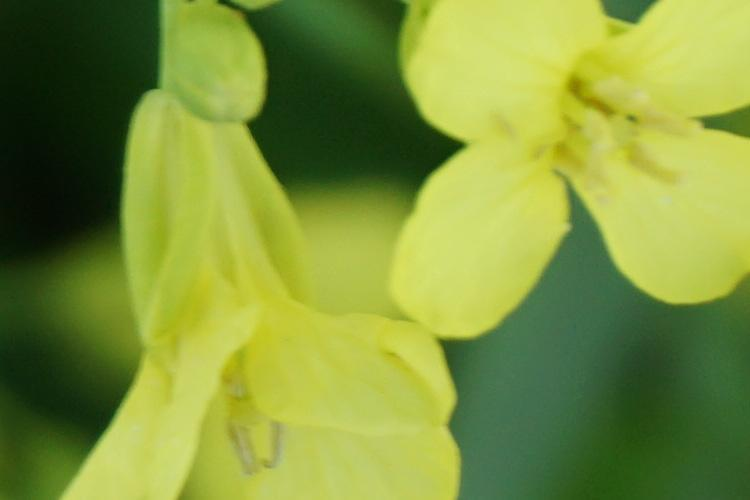bud: (154, 8, 285, 126)
yellow: (86, 91, 463, 500), (378, 2, 750, 324)
